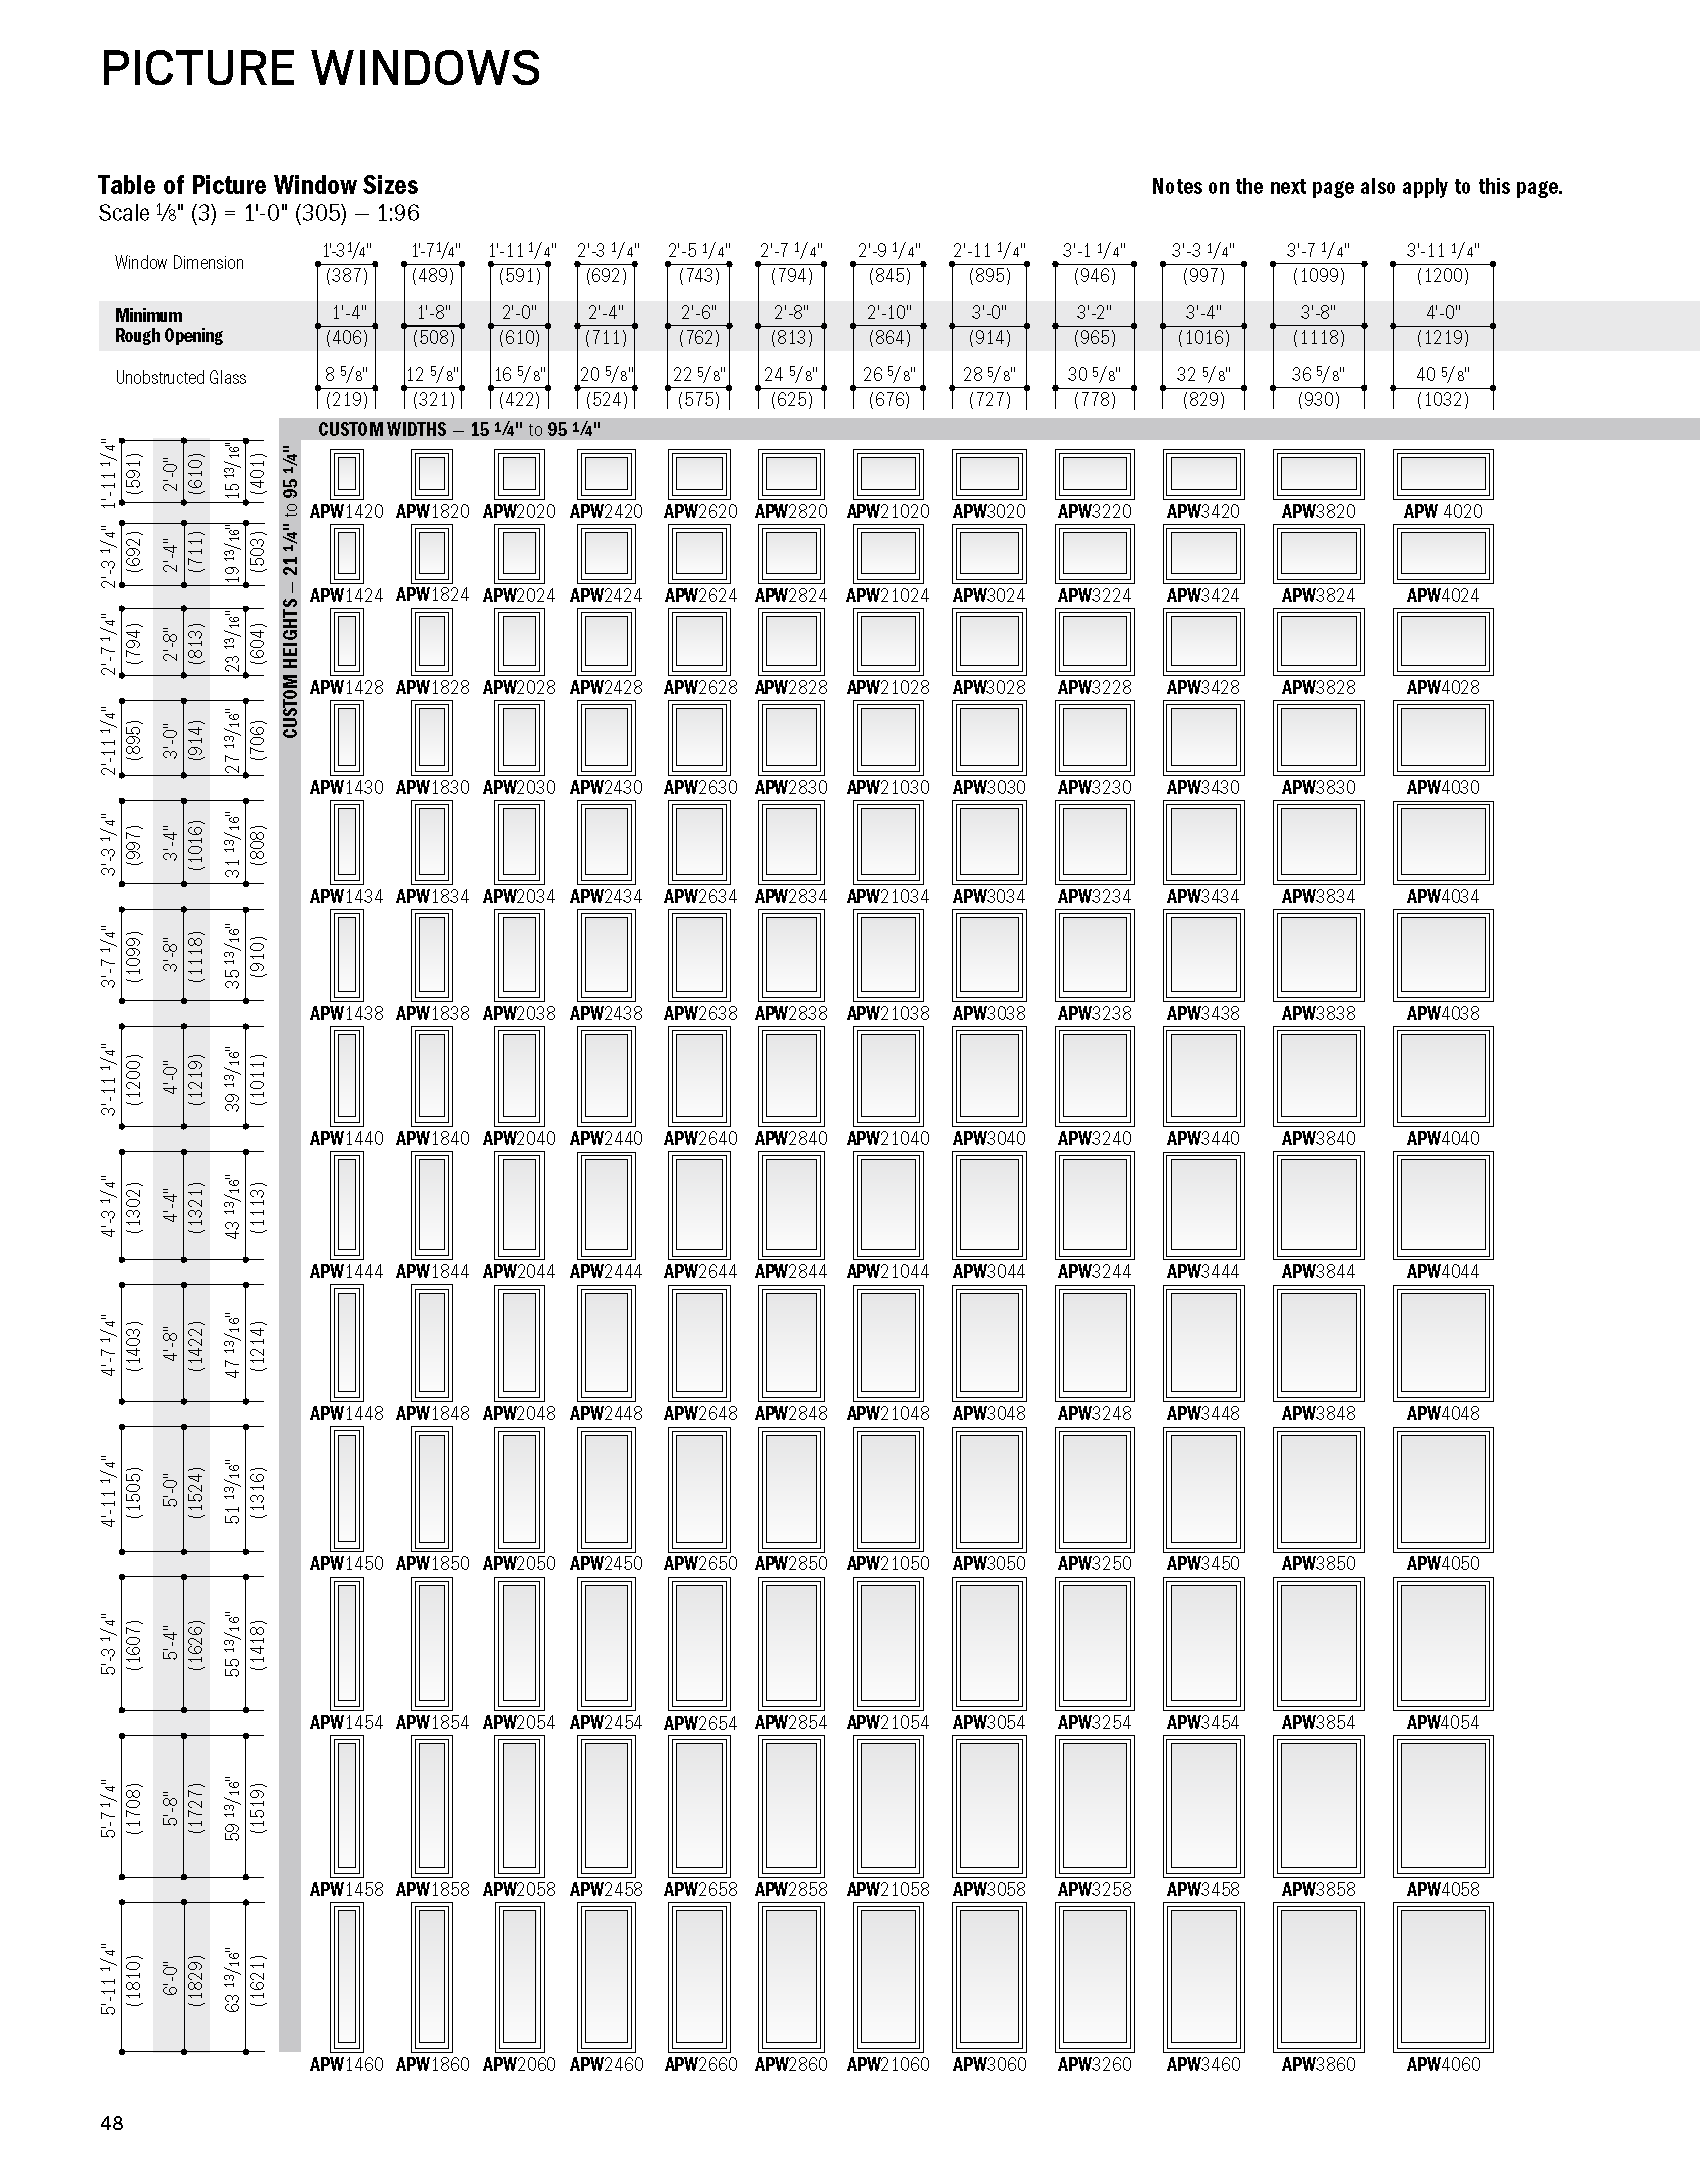tabledetected: (95, 228, 1499, 2074)
